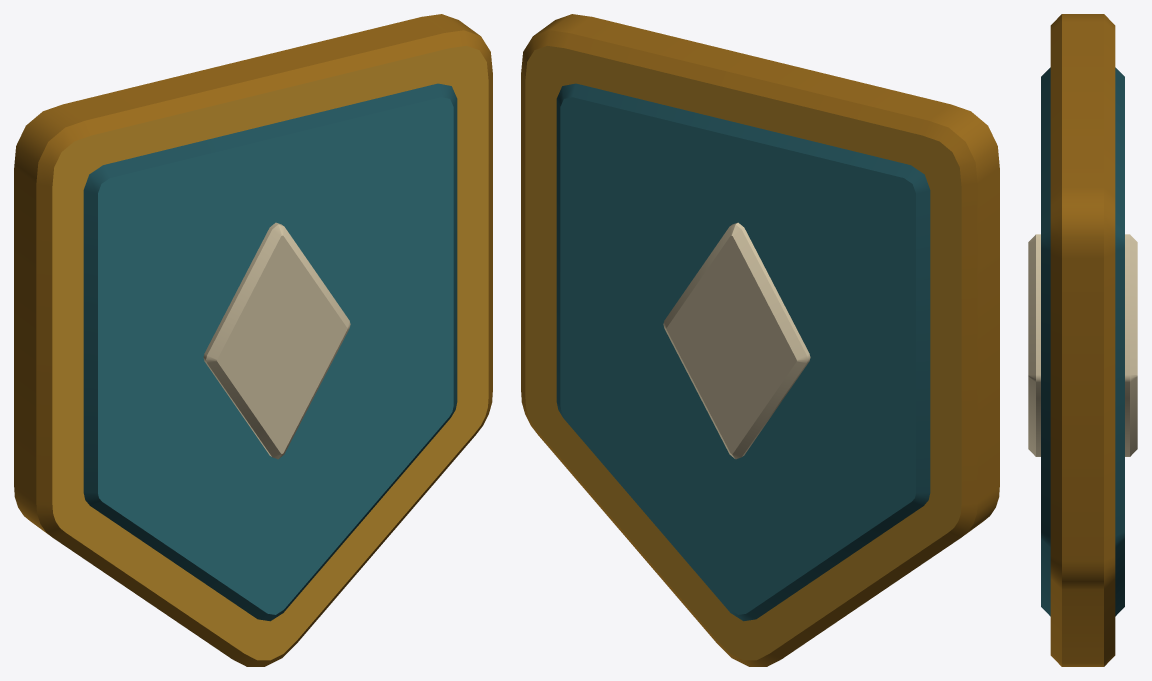
The model's file is Badge_30.glb.
3 views of the same model, side by side, from view 1: azimuth 30°, elevation 25°; view 2: azimuth 150°, elevation 25°; view 3: azimuth 270°, elevation 25° (orthographic). The views are drawn at different scales.
Parts seen in each view (by area): view 1: Badge_30; view 2: Badge_30; view 3: Badge_30.
Part boxes in pixels (x1,y1,x2,y2): Badge_30: [14, 14, 492, 666]; Badge_30: [521, 14, 999, 666]; Badge_30: [1028, 14, 1137, 666].
Size of the model in its own units: 2.01 by 2.49 by 0.44.
